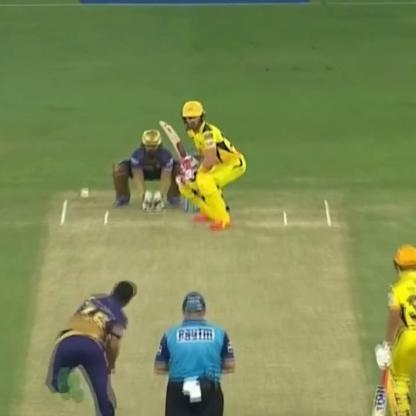ball: (77, 186, 92, 201)
bat: (148, 107, 200, 184), (364, 350, 398, 416)
pitch: (32, 181, 382, 416)
